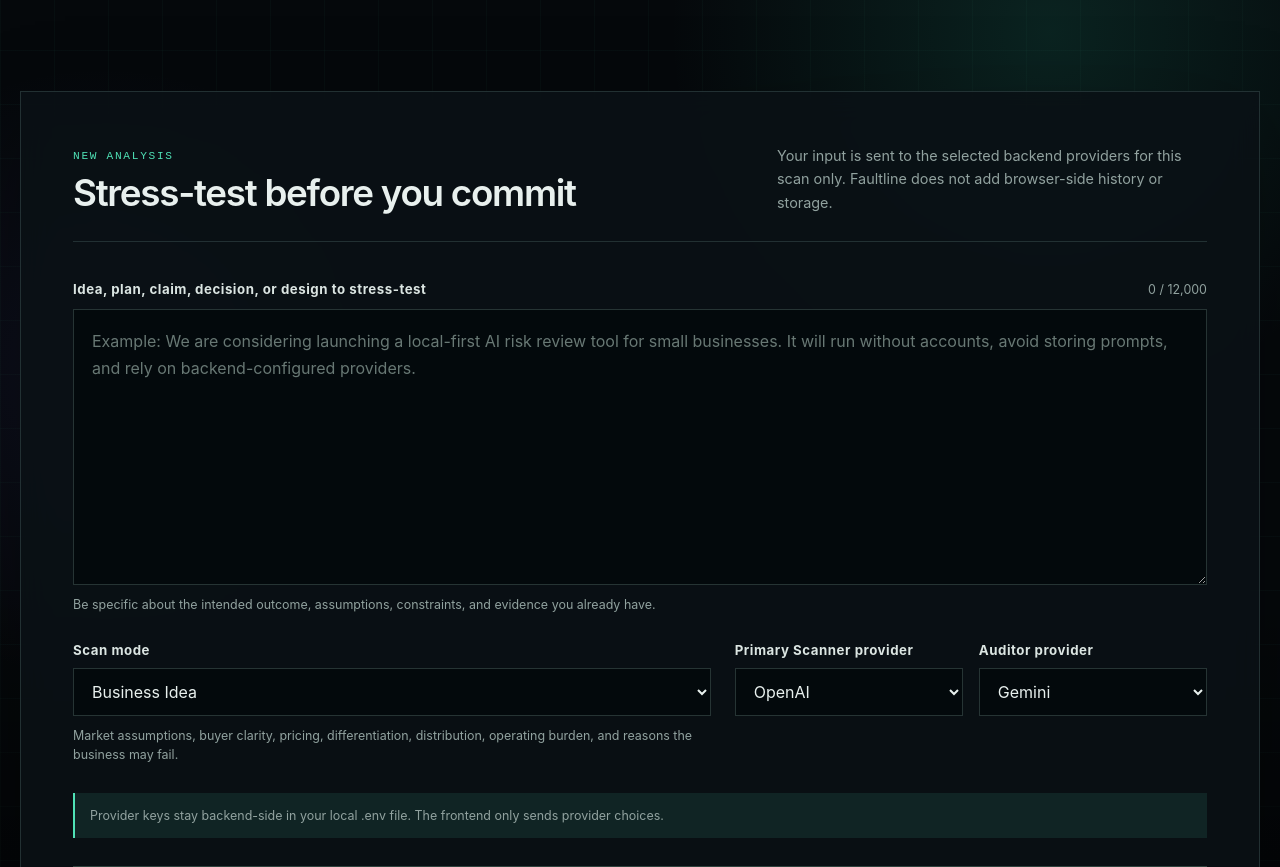
Scenario: App › shows a safe backend unavailable error
(page scrolled)
Type "A product idea" into the text box labelled "Idea, plan, claim, decision, or design to stress-test" at (640, 447), box [73,309,1207,585]
(page scrolled)
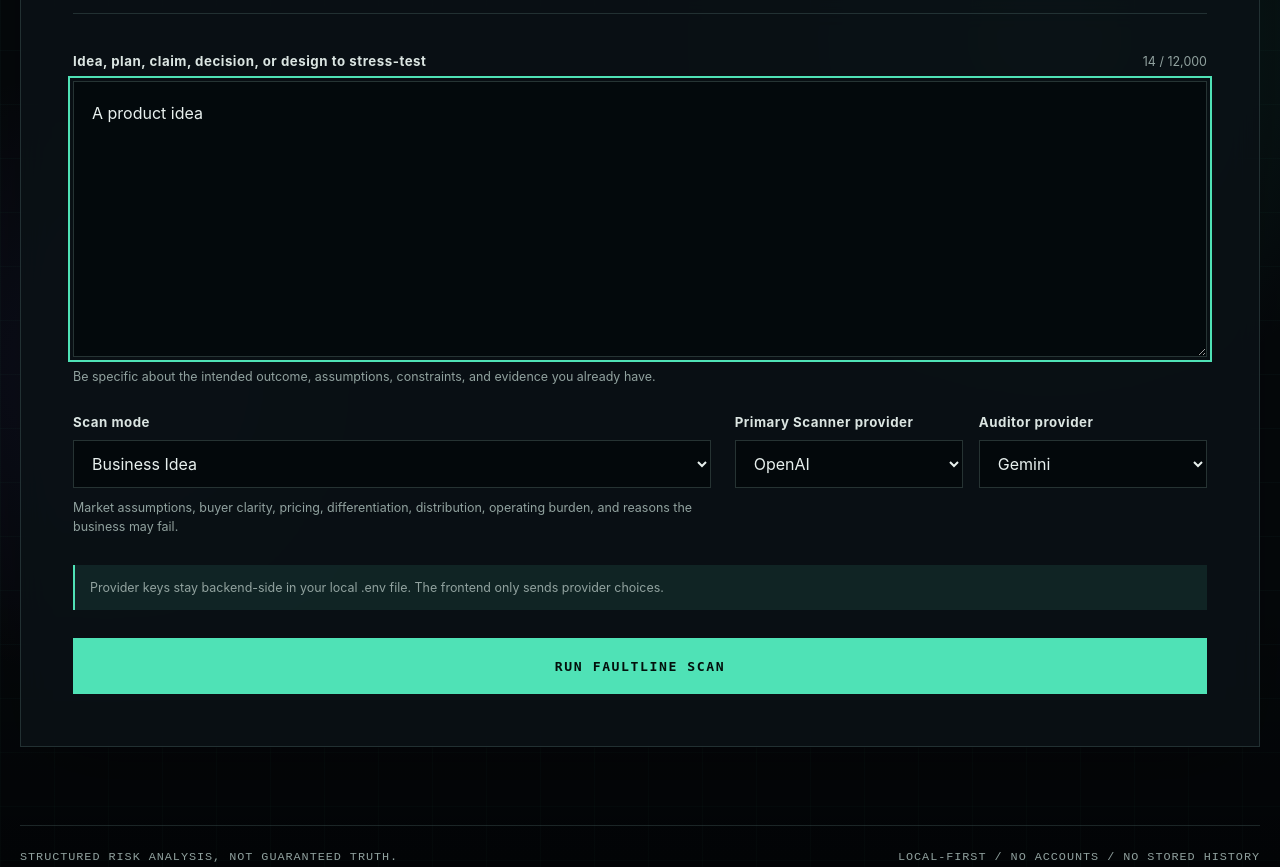
Click the button "Run Faultline Scan" at (640, 666), box [73,638,1207,694]
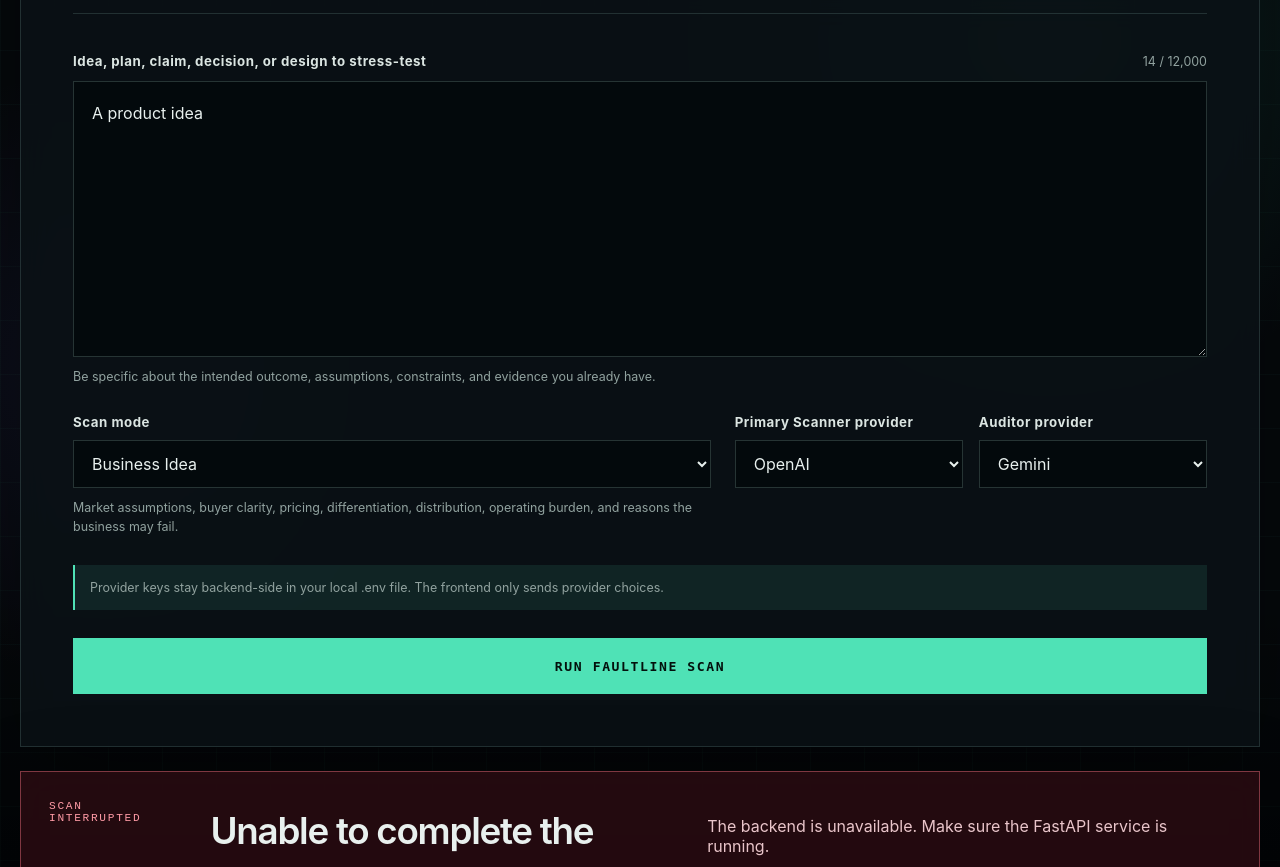
Now the text "The backend is unavailable. Make sure the FastAPI service is running." is shown, box [707,816,1231,856]
